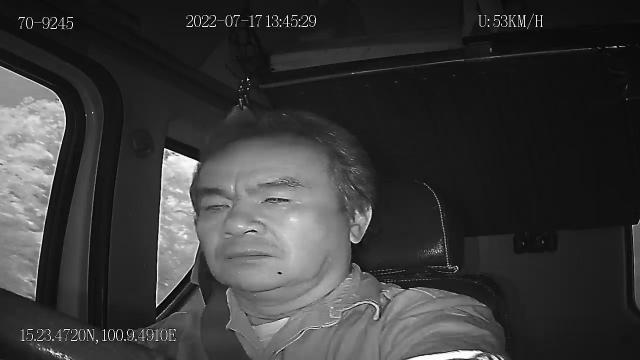SafeDriving: (253, 185, 303, 211), (195, 192, 234, 218)
Seatbelt: (198, 287, 253, 360)
